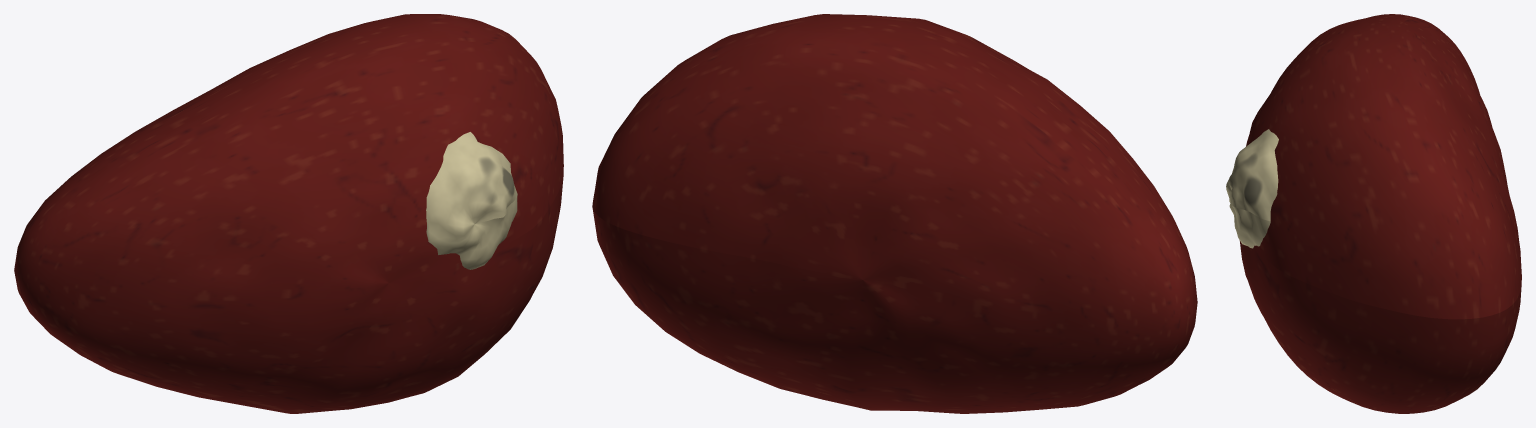
File: liver_tumor.obj
3 views of the same model, side by side, from view 1: azimuth 30°, elevation 25°; view 2: azimuth 150°, elevation 25°; view 3: azimuth 270°, elevation 25° (orthographic). The views are drawn at different scales.
Parts seen in each view (by area): view 1: LiverMesh, TumorMesh; view 2: LiverMesh; view 3: LiverMesh, TumorMesh.
Part boxes in pixels (x1,y1,x2,y2): LiverMesh: (14, 14, 563, 413); TumorMesh: (426, 132, 517, 269); LiverMesh: (592, 14, 1197, 413); LiverMesh: (1239, 14, 1521, 413); TumorMesh: (1226, 129, 1278, 248).
Bounding box in the file's own units: 4.05 × 2.53 × 2.06.
2 materials, 2 textured.
